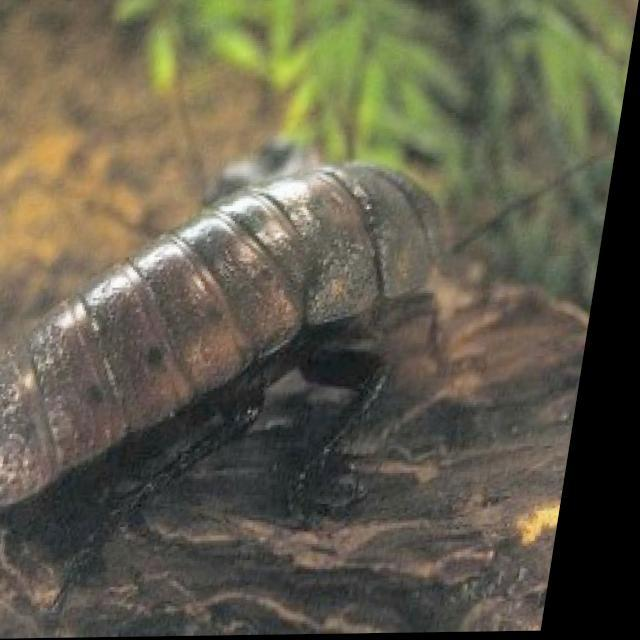cockroach: (2, 156, 446, 512)
